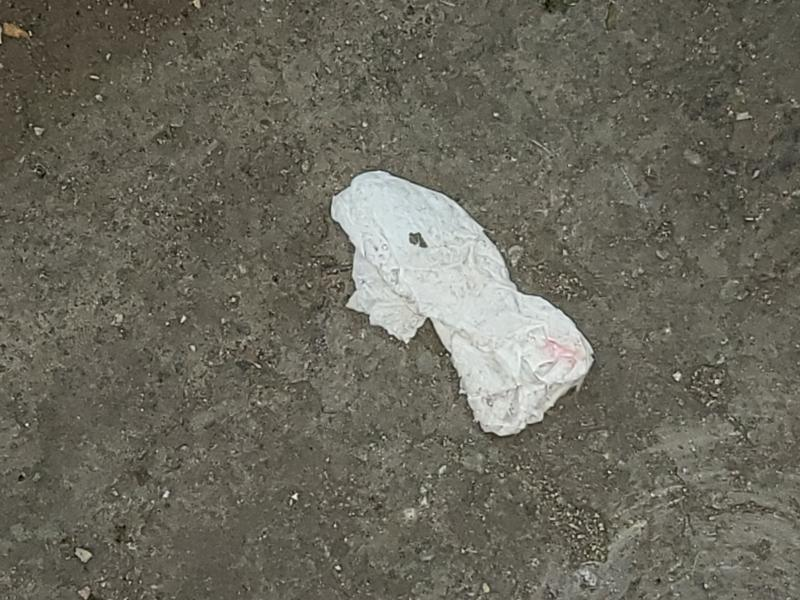papel: (329, 171, 596, 439)
